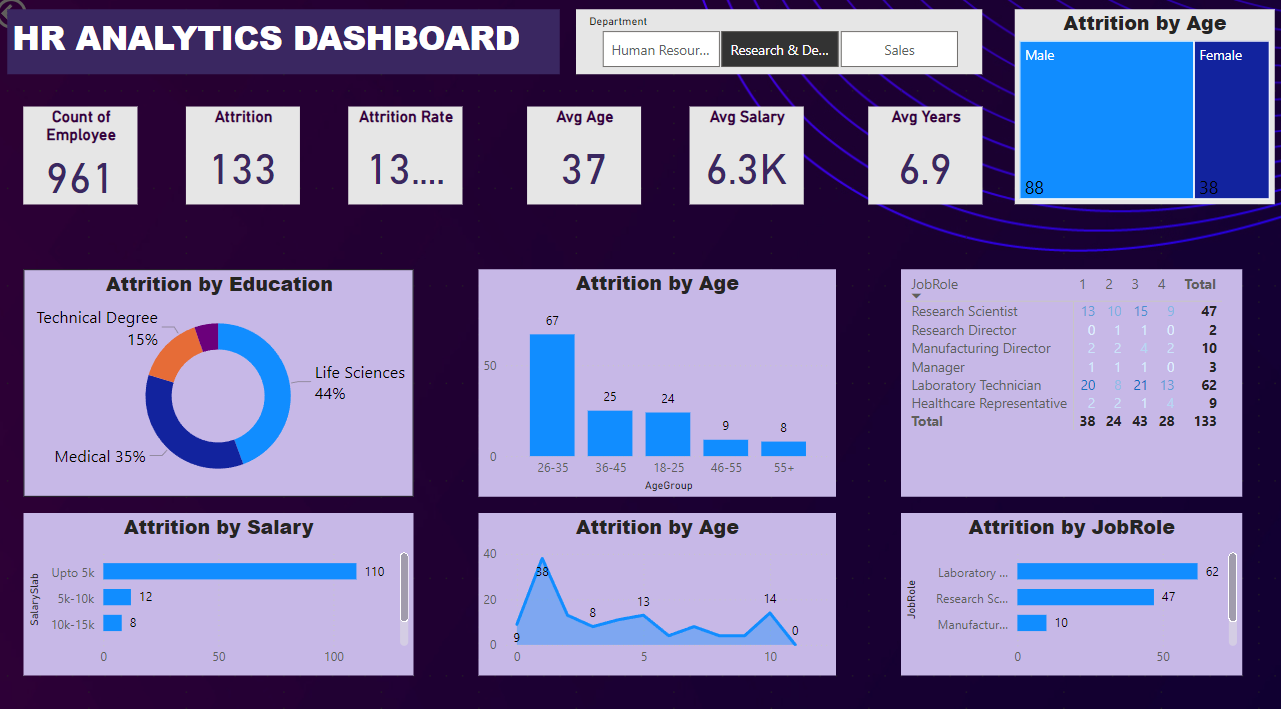

The page's visual inventory and layout, read from the dashboard file:
{"tool":"powerbi","page":{"name":"Page 1","canvas":[1280,720],"ordinal":0},"visuals":[{"type":"card","title":"Count of  Employee","fields":{"Values":["CountNonNull(HR_Analytics.EmpID)"]},"box":[32,112,112,96],"z":0},{"type":"card","title":"Attrition","fields":{"Values":["Sum(HR_Analytics.AttritionCount)"]},"box":[192,112,112,96],"z":1000},{"type":"card","title":"Attrition Rate","fields":{"Values":["HR_Analytics.AttritionRate"]},"box":[352,112,112,96],"z":2000},{"type":"card","title":"Avg Age","fields":{"Values":["Avg(HR_Analytics.Age)"]},"box":[528,112,112,96],"z":3000},{"type":"card","title":"Avg Years","fields":{"Values":["Avg(HR_Analytics.YearsAtCompany)"]},"box":[864,112,112,96],"z":4000},{"type":"card","title":"Avg Salary","fields":{"Values":["Avg(HR_Analytics.MonthlyIncome)"]},"box":[688,112,112,96],"z":5000},{"type":"actionButton","box":[0,0,100,40],"z":6000},{"type":"donutChart","title":" Attrition by Education","fields":{"Category":["HR_Analytics.EducationField"],"Y":["Sum(HR_Analytics.AttritionCount)"]},"box":[32,272,384,224],"z":7000},{"type":"columnChart","title":" Attrition by Age","fields":{"Category":["HR_Analytics.AgeGroup"],"Y":["Sum(HR_Analytics.AttritionCount)"]},"box":[480,272,352,224],"z":8000},{"type":"pivotTable","fields":{"Rows":["HR_Analytics.JobRole"],"Columns":["HR_Analytics.JobSatisfaction"],"Values":["Sum(HR_Analytics.AttritionCount)"]},"box":[896,272,336,224],"z":9000},{"type":"barChart","title":" Attrition by Salary","fields":{"Category":["HR_Analytics.SalarySlab"],"Y":["Sum(HR_Analytics.AttritionCount)"]},"box":[32,512,384,160],"z":10000},{"type":"barChart","title":" Attrition by JobRole","fields":{"Category":["HR_Analytics.JobRole"],"Y":["Sum(HR_Analytics.AttritionCount)"]},"box":[896,512,336,160],"z":11000},{"type":"areaChart","title":" Attrition by Age","fields":{"Category":["HR_Analytics.YearsAtCompany"],"Y":["Sum(HR_Analytics.AttritionCount)"]},"box":[480,512,352,160],"z":12000},{"type":"treemap","title":" Attrition by Age","fields":{"Group":["HR_Analytics.Gender"],"Values":["Sum(HR_Analytics.AttritionCount)"]},"box":[1008,16,256,192],"z":13000},{"type":"slicer","fields":{"Values":["HR_Analytics.Department"]},"box":[576,16,400,64],"z":14000},{"type":"textbox","box":[16,16,544,64],"z":15000}]}

Visuals, with their boxes in screenshot pixels (x1, y1, x2, y2), scaled from the page's 1280x720 canvas onto the 1281x709 screenshot:
"Count of  Employee" card: box(32, 110, 144, 205)
"Attrition" card: box(192, 110, 304, 205)
"Attrition Rate" card: box(352, 110, 464, 205)
"Avg Age" card: box(528, 110, 640, 205)
"Avg Years" card: box(865, 110, 977, 205)
"Avg Salary" card: box(689, 110, 801, 205)
actionButton: box(0, 0, 100, 39)
" Attrition by Education" donutChart: box(32, 268, 416, 488)
" Attrition by Age" columnChart: box(480, 268, 833, 488)
pivotTable - HR_Analytics.JobRole x HR_Analytics.JobSatisfaction: box(897, 268, 1233, 488)
" Attrition by Salary" barChart: box(32, 504, 416, 662)
" Attrition by JobRole" barChart: box(897, 504, 1233, 662)
" Attrition by Age" areaChart: box(480, 504, 833, 662)
" Attrition by Age" treemap: box(1009, 16, 1265, 205)
slicer - HR_Analytics.Department: box(576, 16, 977, 79)
textbox: box(16, 16, 560, 79)
